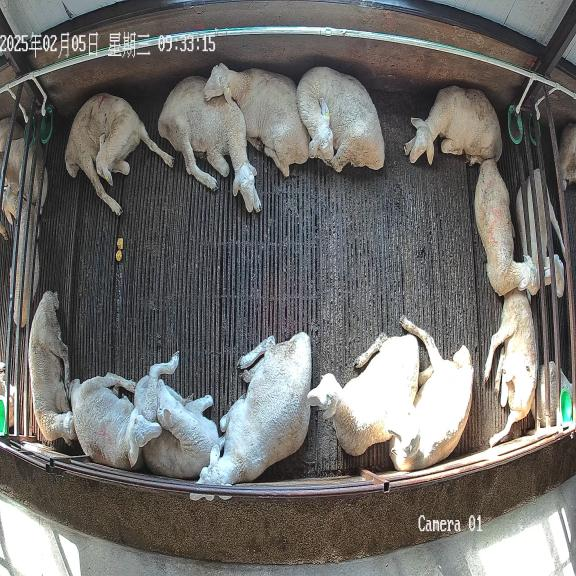lying: (190, 332, 311, 501), (158, 76, 261, 212), (307, 334, 419, 456), (385, 317, 473, 471), (65, 93, 173, 215), (204, 63, 311, 177), (135, 353, 218, 479), (296, 66, 385, 172), (70, 374, 162, 470), (474, 160, 539, 295), (484, 289, 537, 446), (404, 86, 502, 165), (29, 291, 77, 444)
